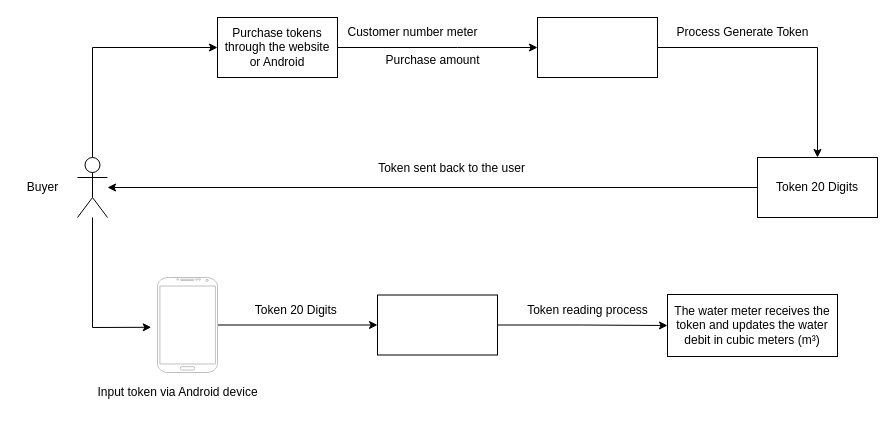
The diagram is 895 pixels wide and 425 high, and some of its shapes have lost their labels. Each missing label, with the centre of its shape:
"Purchase received by the token server" goes at point (597, 47).
"The Android device sends the token via Bluetooth" goes at point (437, 324).
